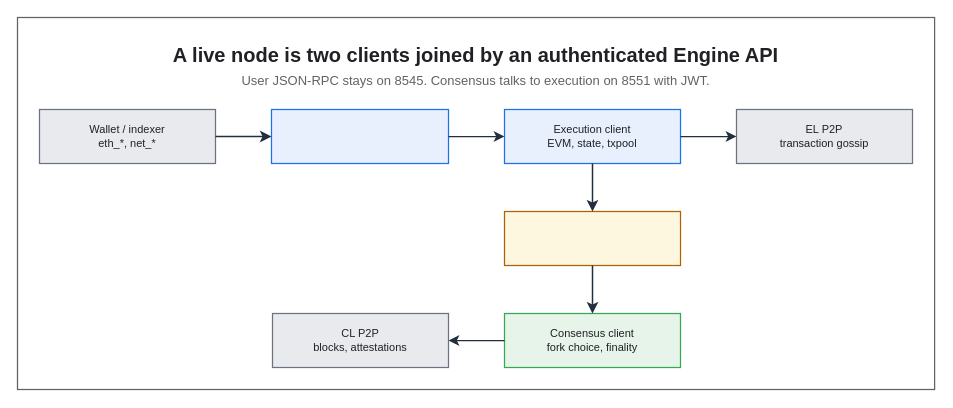
This 953x408 diagram has some shape labels left out. The box of each missing label's shape, as (x1, y1, x2, y2) in pixels:
Engine API 8551 JWT HS256, iat 60s: (503, 210, 681, 266)
JSON-RPC 8545 unauthenticated user API: (270, 108, 449, 164)
